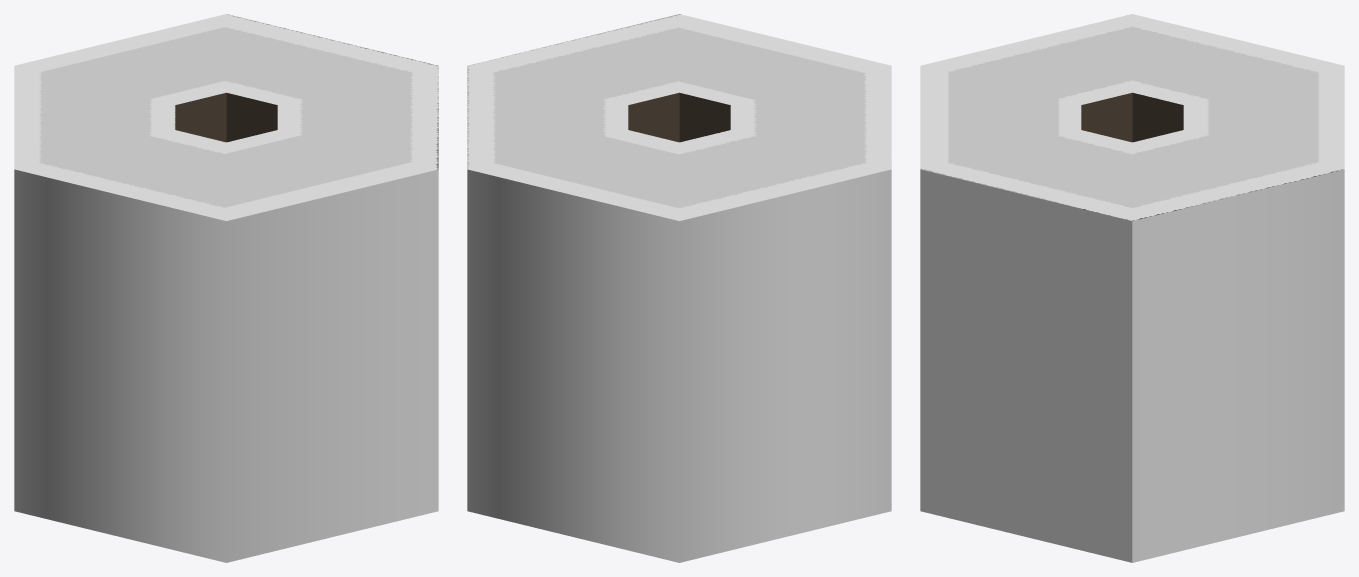
File: ToiletPaper1.FBX
3 views of the same model, side by side, from view 1: azimuth 30°, elevation 25°; view 2: azimuth 150°, elevation 25°; view 3: azimuth 270°, elevation 25° (orthographic).
Parts seen in each view (by area): view 1: ToiletPaper1; view 2: ToiletPaper1; view 3: ToiletPaper1.
Part boxes in pixels (bbox=[...]): ToiletPaper1: bbox=[14, 14, 438, 562]; ToiletPaper1: bbox=[467, 14, 891, 562]; ToiletPaper1: bbox=[920, 14, 1344, 562].
Size of the model in its own units: 21.54 by 16.57 by 18.66.
